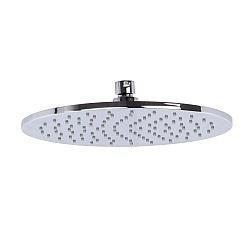Ducha: (11, 70, 237, 153)
